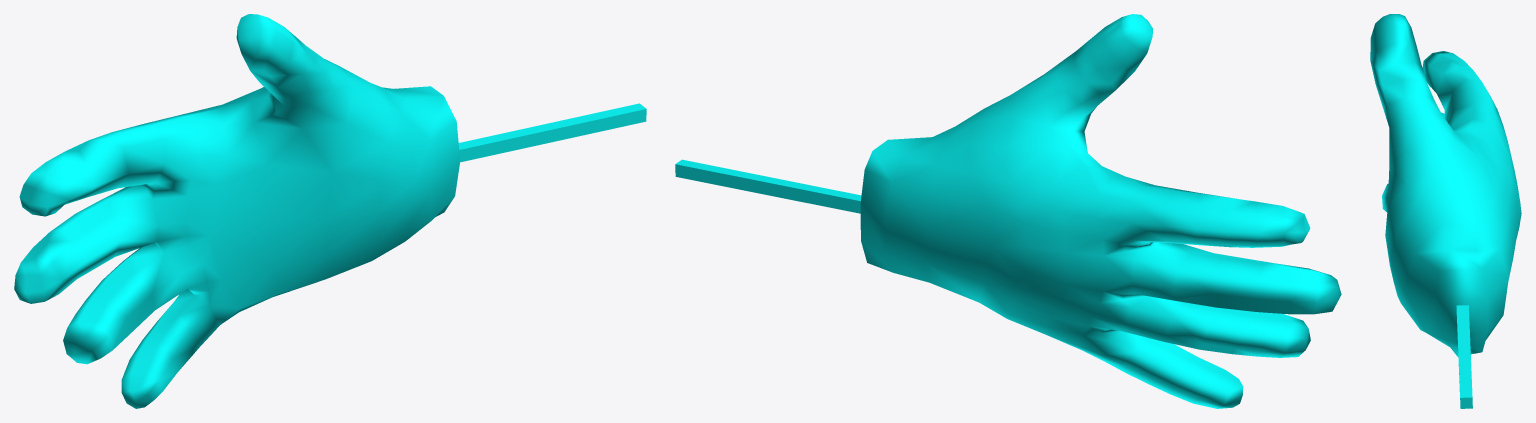
Rendered from Slap_14.obj.
3 renders of one model, left to right at view 1: azimuth 30°, elevation 25°; view 2: azimuth 150°, elevation 25°; view 3: azimuth 270°, elevation 25°, orthographic. The views are drawn at different scales.
Parts seen in each view (by area): view 1: Hand1, Handle1; view 2: Hand1, Handle1; view 3: Hand1, Handle1.
Boxes of the visible parts, <box> form: Hand1: <box>14,14,460,408</box>; Handle1: <box>458,103,646,162</box>; Hand1: <box>860,14,1341,408</box>; Handle1: <box>675,159,861,213</box>; Hand1: <box>1370,14,1521,356</box>; Handle1: <box>1456,305,1472,408</box>.
Size of the model in its own units: 5.37 by 2.92 by 1.22.
